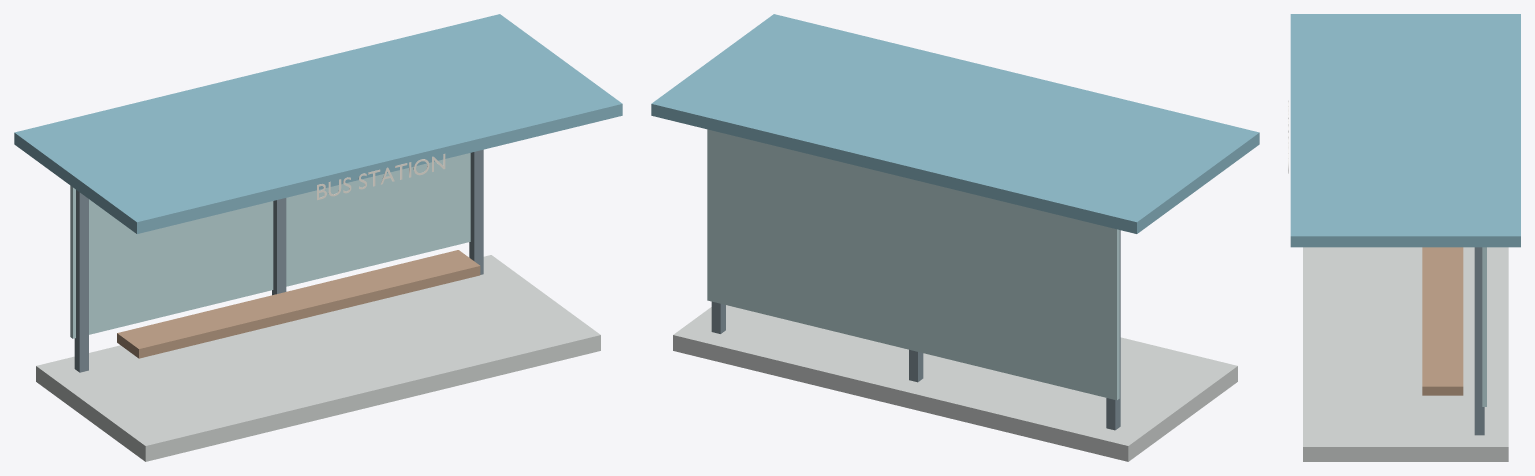
File: bus_station.glb
3 renders of one model, left to right at view 1: azimuth 30°, elevation 25°; view 2: azimuth 150°, elevation 25°; view 3: azimuth 270°, elevation 25°, orthographic. The views are drawn at different scales.
Parts seen in each view (by area): view 1: bus_station_005, bus_station_000, bus_station_004, bus_station_006, bus_station_001, bus_station_003, bus_station_002, bus_station_007; view 2: bus_station_004, bus_station_005, bus_station_000, bus_station_001; view 3: bus_station_005, bus_station_000, bus_station_006, bus_station_003, bus_station_004.
Part boxes in pixels (<box>): bus_station_005: <box>14,14,622,233</box>; bus_station_000: <box>36,255,600,461</box>; bus_station_004: <box>70,153,470,338</box>; bus_station_006: <box>117,250,480,358</box>; bus_station_001: <box>74,190,88,372</box>; bus_station_003: <box>469,149,483,274</box>; bus_station_002: <box>272,198,286,295</box>; bus_station_007: <box>317,154,445,200</box>; bus_station_004: <box>707,129,1119,400</box>; bus_station_005: <box>651,14,1259,233</box>; bus_station_000: <box>673,305,1237,461</box>; bus_station_001: <box>1106,230,1120,430</box>; bus_station_005: <box>1290,14,1520,247</box>; bus_station_000: <box>1303,247,1508,461</box>; bus_station_006: <box>1422,247,1463,395</box>; bus_station_003: <box>1474,247,1484,435</box>; bus_station_004: <box>1482,247,1486,406</box>.
Size of the model in its own units: 6.4 by 3.12 by 2.83.
